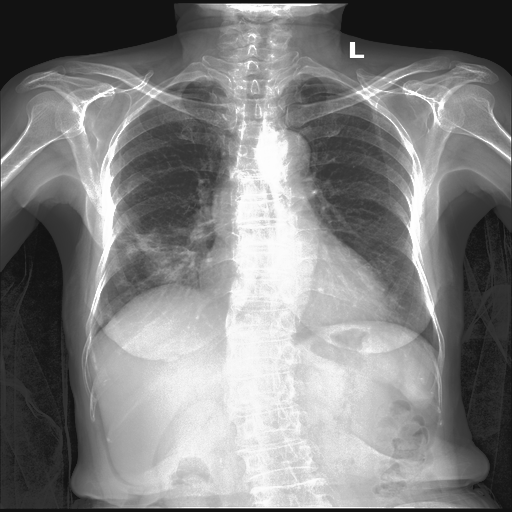Consolidation: (259, 130, 309, 178)
ILD: (112, 211, 199, 286)
Nodule/Mass: (198, 258, 391, 320)
Other lesion: (112, 211, 199, 286)
Pleural thickening: (112, 212, 213, 293)
Pneumothorax: (112, 211, 199, 286)
